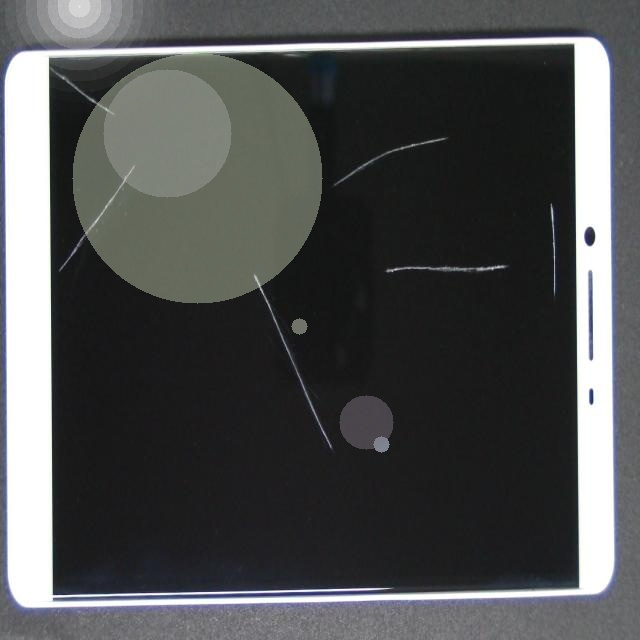scratch: (77, 40, 403, 520), (277, 242, 640, 410)
